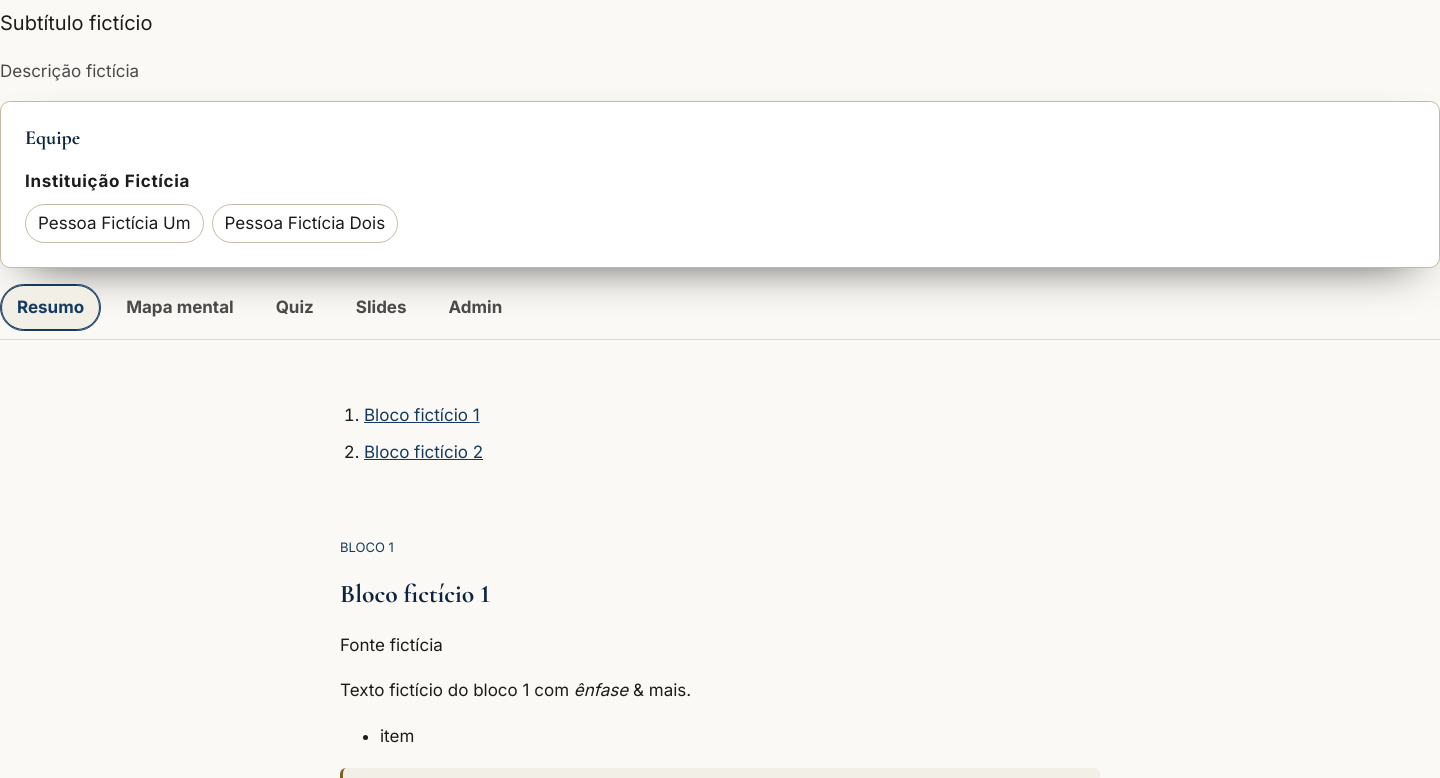
Test: ConteudoRestritoVisor › o painel Admin carrega a lista quando o administrador abre a aba
The image size is (1440, 778).
Click the tab "Admin": (475, 307) 432,284 -> 519,331
(page scrolled)
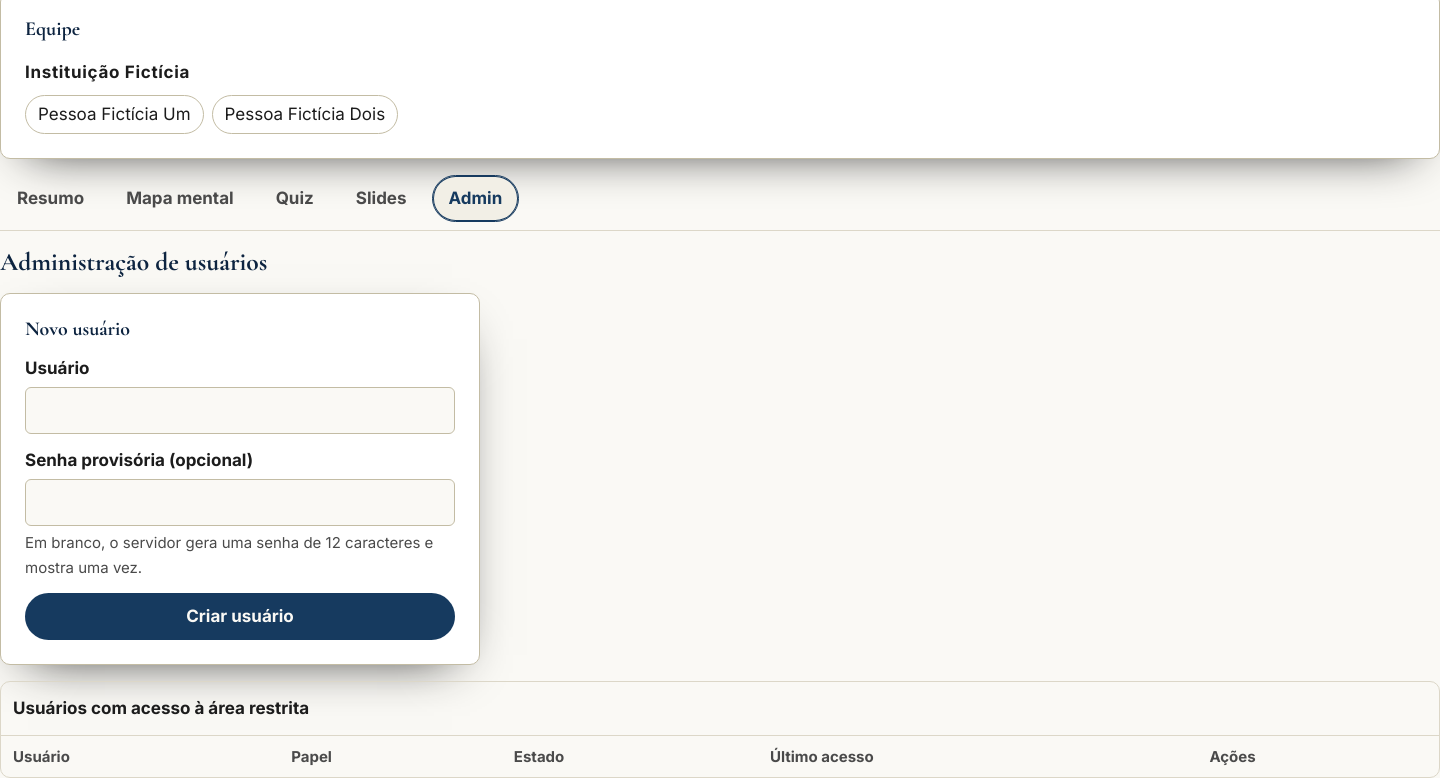
Check: the element with class "ar-admin" is shown
